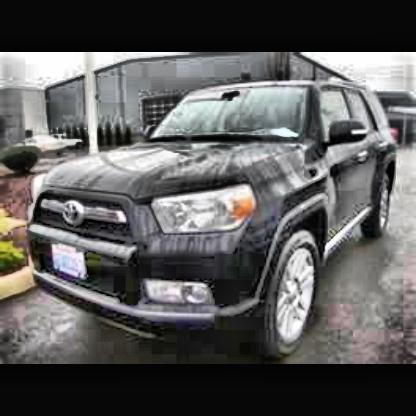Toyota 4Runner SUV 2012: (31, 82, 401, 365)
